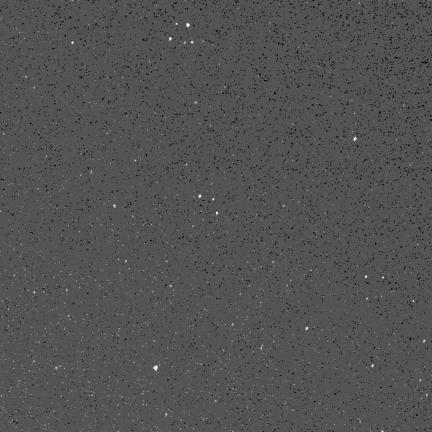blob: (154, 365, 158, 370), (169, 37, 173, 41), (113, 205, 117, 208), (199, 195, 202, 199), (372, 365, 375, 368), (191, 41, 194, 44), (365, 276, 368, 279), (354, 137, 356, 141), (72, 41, 74, 45), (187, 23, 189, 27)
